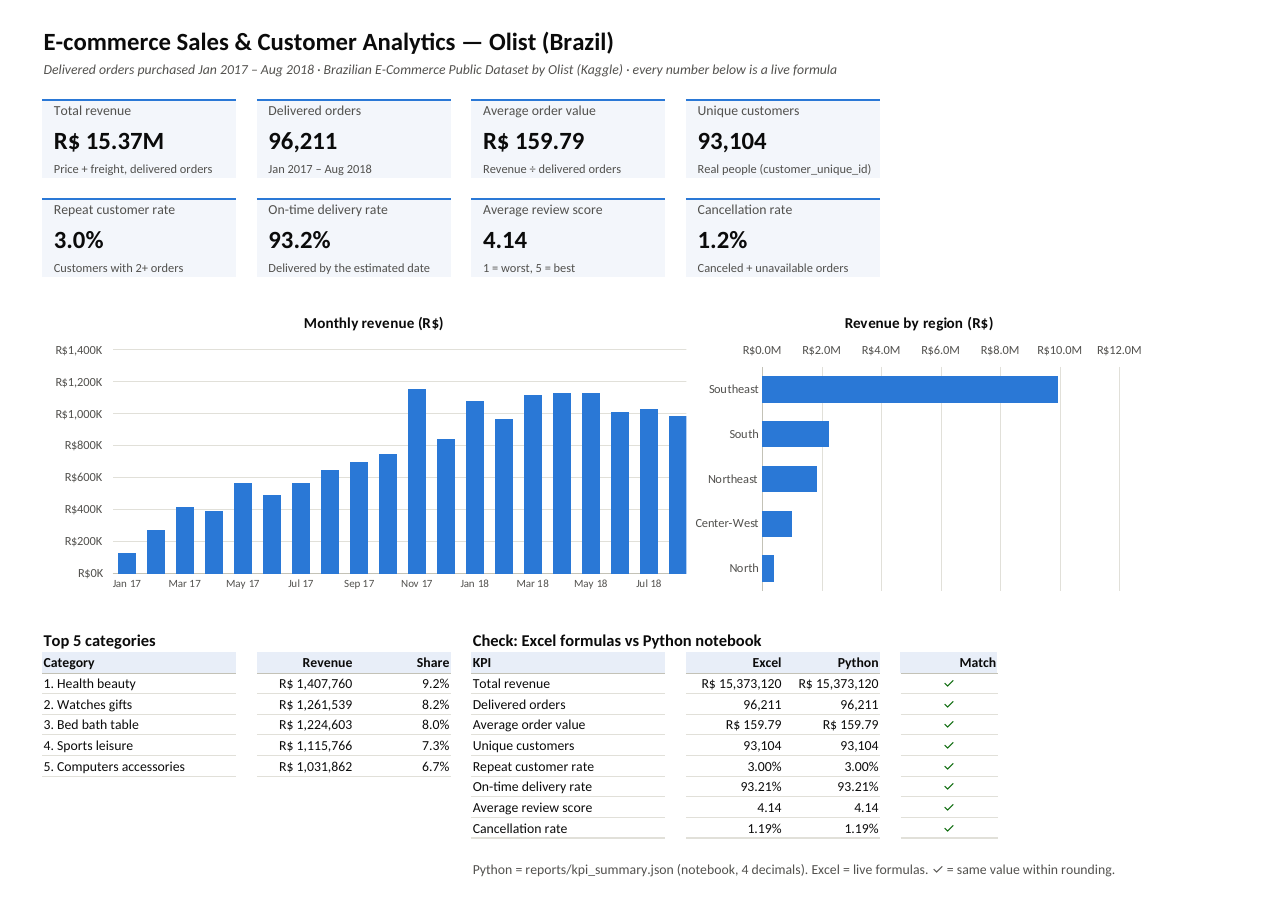

Layout of this report page (visuals, bound fields, positions):
{"tool":"powerbi","page":{"name":"Executive Overview","canvas":[1280,720],"ordinal":0},"visuals":[{"type":"textbox","box":[16,8,976,56],"z":1000},{"type":"slicer","fields":{"Values":["Date.Year"]},"box":[1000,10,128,54],"z":2000},{"type":"slicer","fields":{"Values":["dim_state.region"]},"box":[1136,10,128,54],"z":3000},{"type":"card","fields":{"Values":["_Measures.Total Revenue"]},"box":[16,72,171.4,88],"z":4000},{"type":"card","fields":{"Values":["_Measures.Delivered Orders"]},"box":[195.4,72,171.4,88],"z":5000},{"type":"card","fields":{"Values":["_Measures.Average Order Value"]},"box":[374.9,72,171.4,88],"z":6000},{"type":"card","fields":{"Values":["_Measures.Unique Customers"]},"box":[554.3,72,171.4,88],"z":7000},{"type":"card","fields":{"Values":["_Measures.Repeat Customer Rate"]},"box":[733.7,72,171.4,88],"z":8000},{"type":"card","fields":{"Values":["_Measures.On-time Delivery Rate"]},"box":[913.1,72,171.4,88],"z":9000},{"type":"card","fields":{"Values":["_Measures.Avg Review Score"]},"box":[1092.6,72,171.4,88],"z":10000},{"type":"clusteredColumnChart","title":"Monthly revenue (R$)","fields":{"Category":["Date.Month"],"Y":["_Measures.Total Revenue"]},"box":[16,170,812,262],"z":11000},{"type":"clusteredBarChart","title":"Revenue by region (R$)","fields":{"Category":["dim_state.region"],"Y":["_Measures.Total Revenue"]},"box":[836,170,428,262],"z":12000},{"type":"lineChart","title":"Revenue by month, Jan–Aug: 2018 vs 2017 (R$)","fields":{"Category":["Date.Month Name"],"Y":["_Measures.Revenue 2017 (Jan-Aug)","_Measures.Revenue 2018 (Jan-Aug)"]},"box":[16,440,620,264],"z":13000},{"type":"clusteredBarChart","title":"Top 10 categories by revenue (R$)","fields":{"Category":["fact_order_items.category"],"Y":["_Measures.Item Revenue (Top 10)"]},"box":[644,440,620,264],"z":14000}]}

Visuals, with their boxes on the page's 1280x720 design canvas (x1, y1, x2, y2). These are canvas units, not pixel positions in the 1287x910 screenshot, which may show the page scaled, cropped or inside an application window:
textbox: 16,8,992,64
slicer - Date.Year: 1000,10,1128,64
slicer - dim_state.region: 1136,10,1264,64
card - _Measures.Total Revenue: 16,72,187,160
card - _Measures.Delivered Orders: 195,72,367,160
card - _Measures.Average Order Value: 375,72,546,160
card - _Measures.Unique Customers: 554,72,726,160
card - _Measures.Repeat Customer Rate: 734,72,905,160
card - _Measures.On-time Delivery Rate: 913,72,1084,160
card - _Measures.Avg Review Score: 1093,72,1264,160
"Monthly revenue (R$)" clusteredColumnChart: 16,170,828,432
"Revenue by region (R$)" clusteredBarChart: 836,170,1264,432
"Revenue by month, Jan–Aug: 2018 vs 2017 (R$)" lineChart: 16,440,636,704
"Top 10 categories by revenue (R$)" clusteredBarChart: 644,440,1264,704
